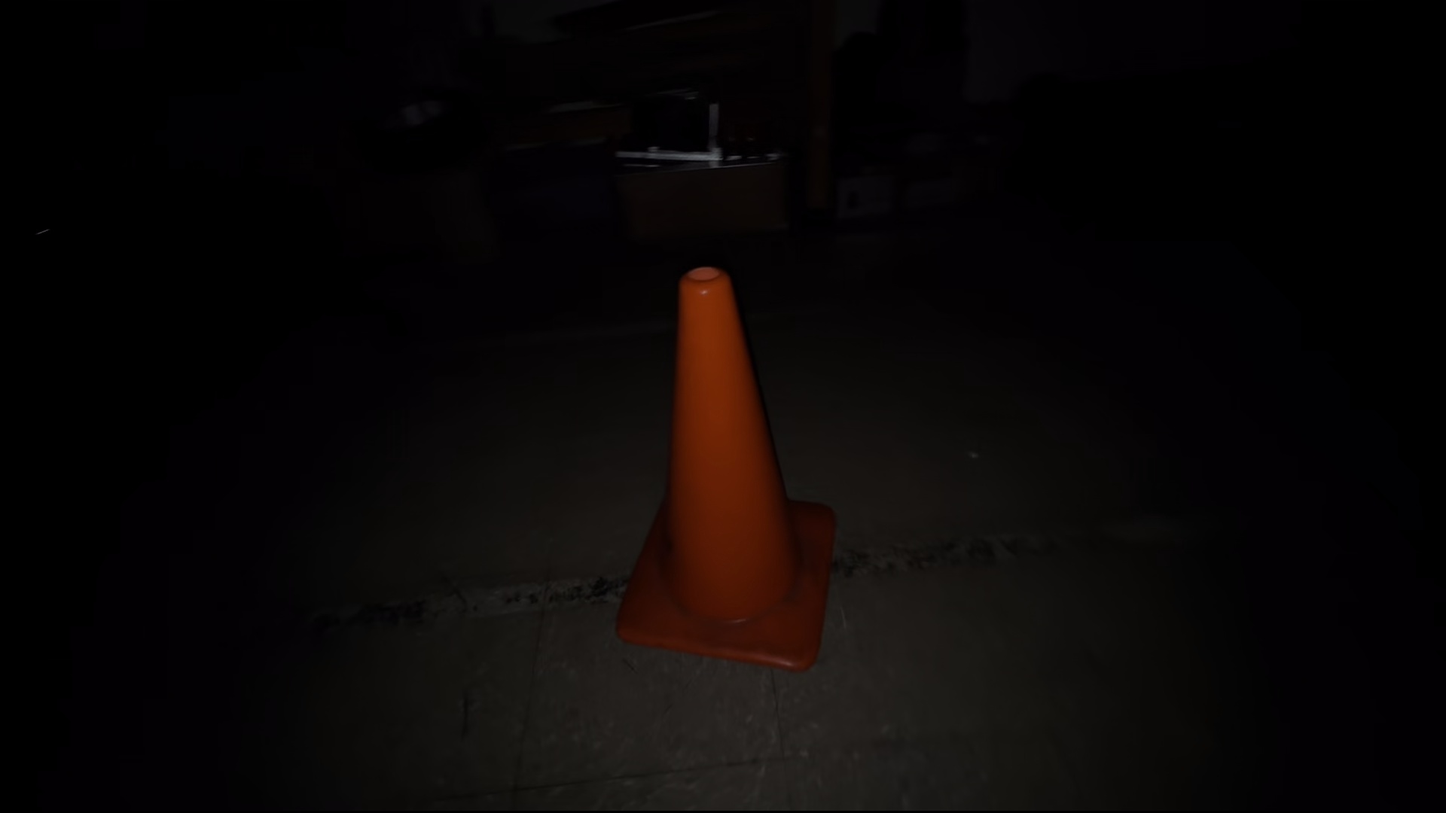traffic_cone: (614, 265, 837, 672)
